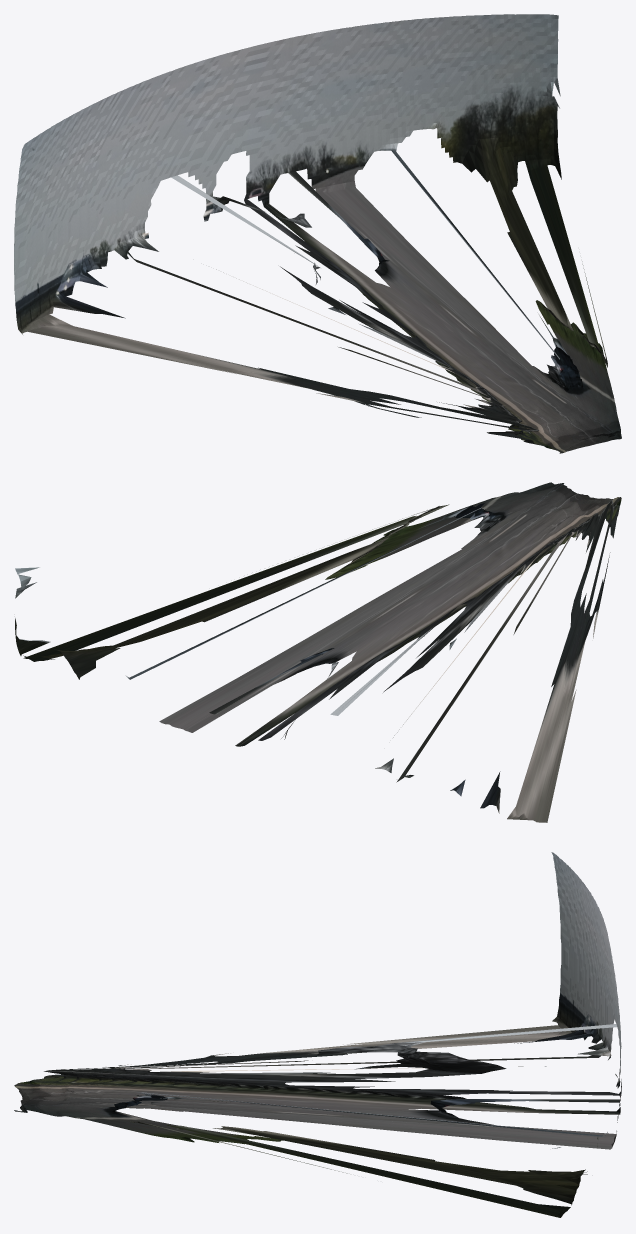
3 views of the same model, one above another, from view 1: azimuth 30°, elevation 25°; view 2: azimuth 150°, elevation 25°; view 3: azimuth 270°, elevation 25° (orthographic). The views are drawn at different scales.
Parts seen in each view (by area): view 1: defaultobject; view 2: defaultobject; view 3: defaultobject.
Part boxes in pixels (box(x1,y1,x2,y2)): defaultobject: box(14, 14, 621, 453); defaultobject: box(15, 482, 621, 822); defaultobject: box(14, 852, 621, 1217).
Bounding box in the file's own units: 41.11 × 14.63 × 44.7.
1 material, 1 textured.
